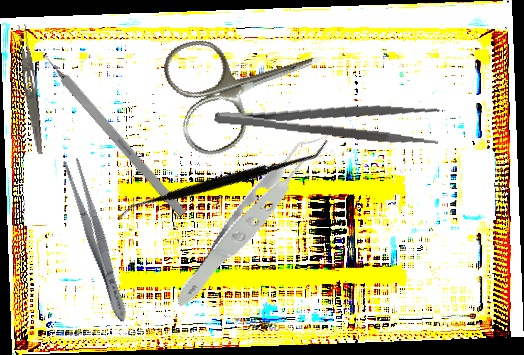Dressing Forceps: (213, 88, 442, 148), (59, 154, 134, 326), (14, 23, 49, 155)
Hook Surgical: (32, 42, 187, 218)
Iris Scissors: (156, 3, 342, 163)
Spatula Surgical: (115, 68, 330, 292)
Tissue Forceps: (141, 130, 370, 310)
